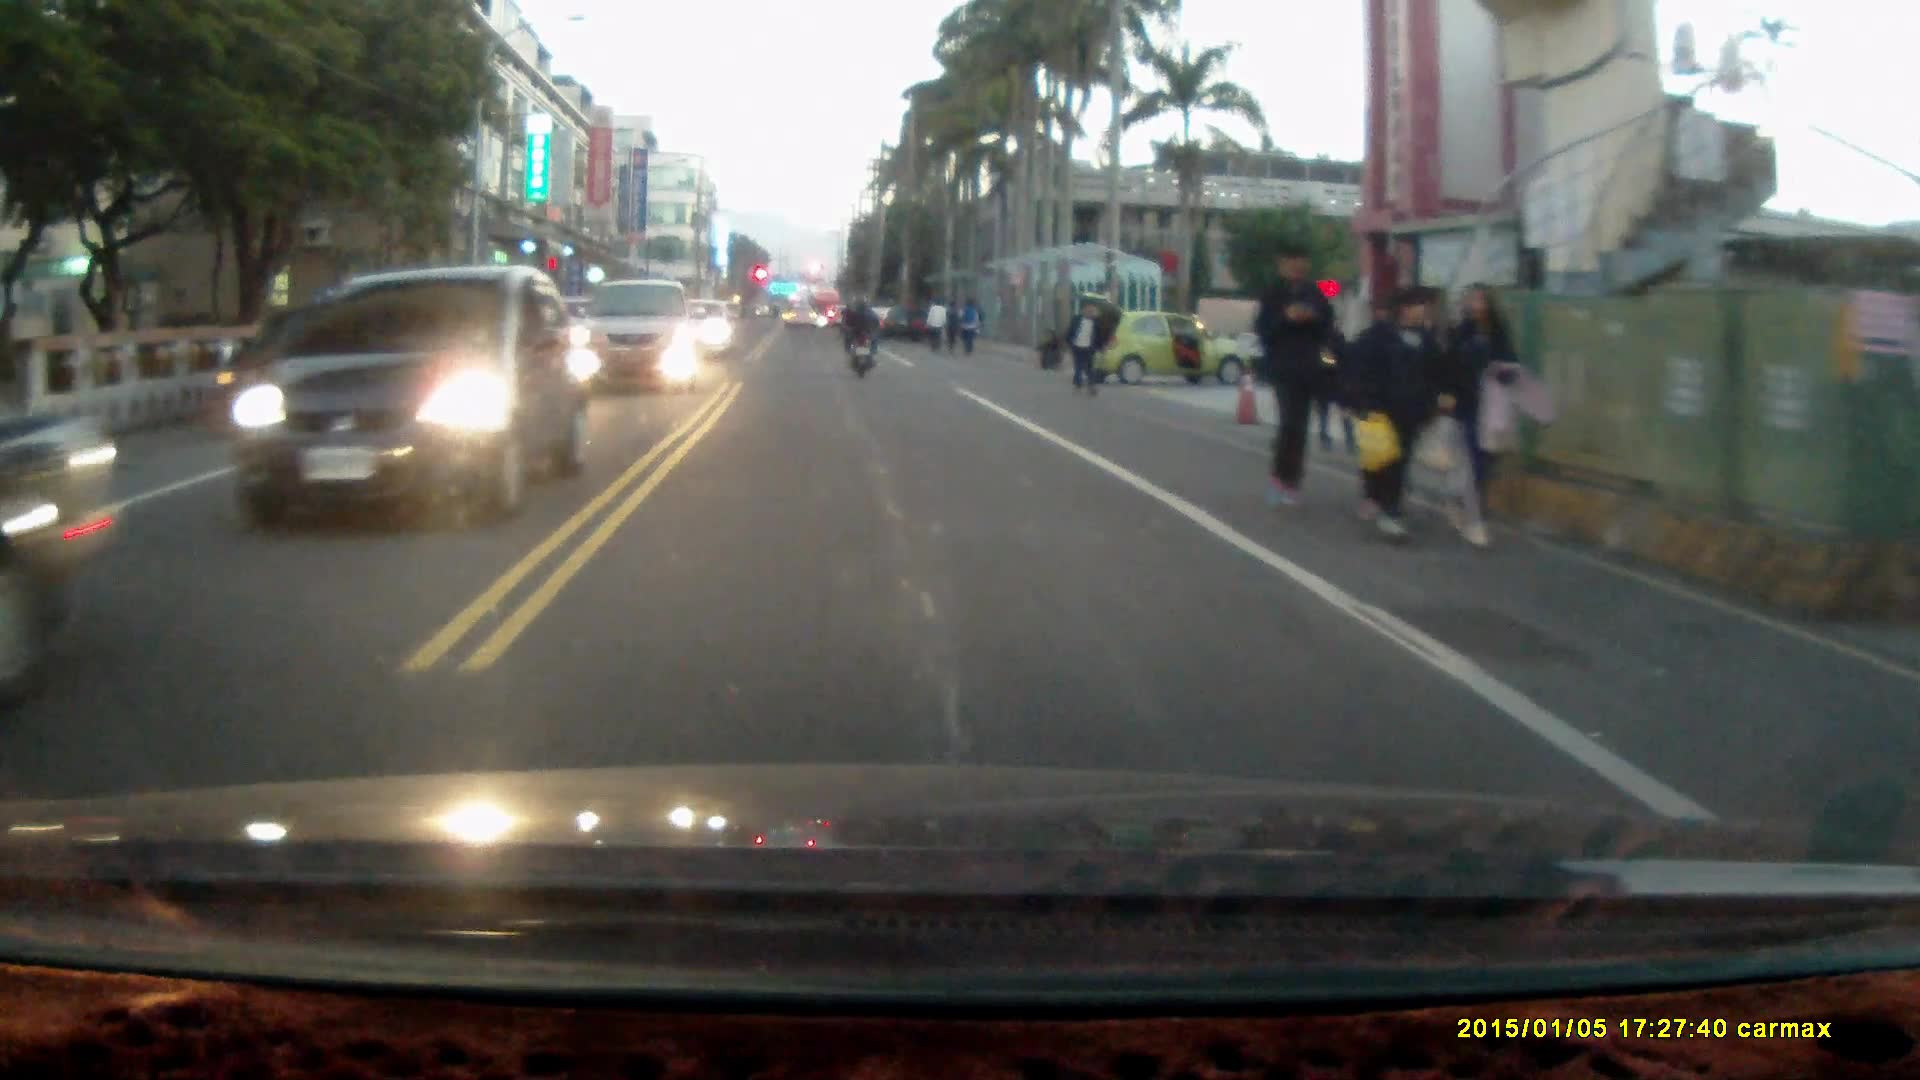pedestrian: (1341, 283, 1438, 545), (1433, 276, 1521, 552), (1251, 242, 1336, 519), (1064, 295, 1103, 399), (1031, 323, 1062, 370)
rider: (838, 294, 879, 381)
vehicle: (213, 265, 583, 528), (1074, 290, 1242, 385), (566, 277, 703, 390)
